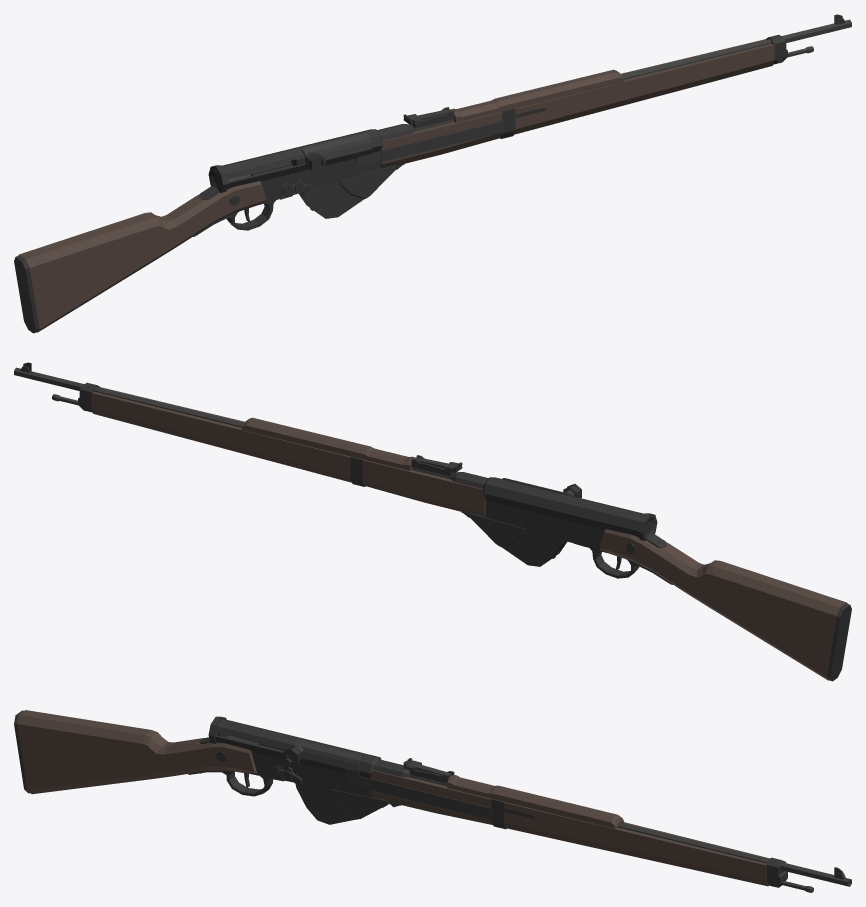
The model's file is rsc1917.glb.
3 views of the same model, one above another, from view 1: azimuth 30°, elevation 25°; view 2: azimuth 150°, elevation 25°; view 3: azimuth 330°, elevation 25° (orthographic).
Parts seen in each view (by area): view 1: Cube, Cube.006, Cylinder.002, Cube.007, Cube.019, Cube.002, Cube.022, Cylinder.004, Cube.020, Cube.001, Cube.003; view 2: Cube, Cube.006, Cylinder.002, Cube.007, Cube.002, Cube.019, Cylinder.004, Cube.001, Cube.003; view 3: Cube, Cube.006, Cylinder.002, Cube.007, Cube.019, Cube.002, Cube.022, Cylinder.004, Cube.020, Cube.003, Cube.015, Cube.016.
Boxes of the visible parts, bbox=[...] form: Cube: bbox=[18, 175, 266, 332]; Cube.006: bbox=[380, 39, 774, 168]; Cylinder.002: bbox=[208, 119, 454, 192]; Cube.007: bbox=[449, 69, 624, 122]; Cube.019: bbox=[298, 165, 396, 218]; Cube.002: bbox=[251, 158, 380, 204]; Cube.022: bbox=[381, 121, 503, 161]; Cylinder.004: bbox=[621, 19, 851, 79]; Cube.020: bbox=[301, 133, 381, 165]; Cube.001: bbox=[14, 255, 38, 333]; Cube.003: bbox=[193, 200, 275, 236]; Cube: bbox=[599, 529, 847, 680]; Cube.006: bbox=[91, 387, 485, 516]; Cylinder.002: bbox=[411, 467, 657, 540]; Cube.007: bbox=[241, 417, 416, 470]; Cube.002: bbox=[485, 500, 606, 552]; Cube.019: bbox=[469, 513, 567, 566]; Cylinder.004: bbox=[14, 367, 244, 427]; Cube.001: bbox=[827, 603, 851, 681]; Cube.003: bbox=[590, 548, 672, 584]; Cube: bbox=[17, 710, 258, 794]; Cube.006: bbox=[370, 770, 769, 886]; Cylinder.002: bbox=[208, 716, 446, 786]; Cube.007: bbox=[447, 774, 624, 828]; Cube.019: bbox=[295, 783, 391, 824]; Cube.002: bbox=[251, 743, 372, 797]; Cube.022: bbox=[370, 779, 492, 819]; Cylinder.004: bbox=[618, 822, 851, 886]; Cube.020: bbox=[294, 740, 370, 788]; Cube.003: bbox=[188, 770, 273, 796]; Cube.015: bbox=[766, 857, 787, 887]; Cube.016: bbox=[491, 798, 506, 829].
Size of the model in its own units: 3.3 by 0.4652 by 0.1461.
